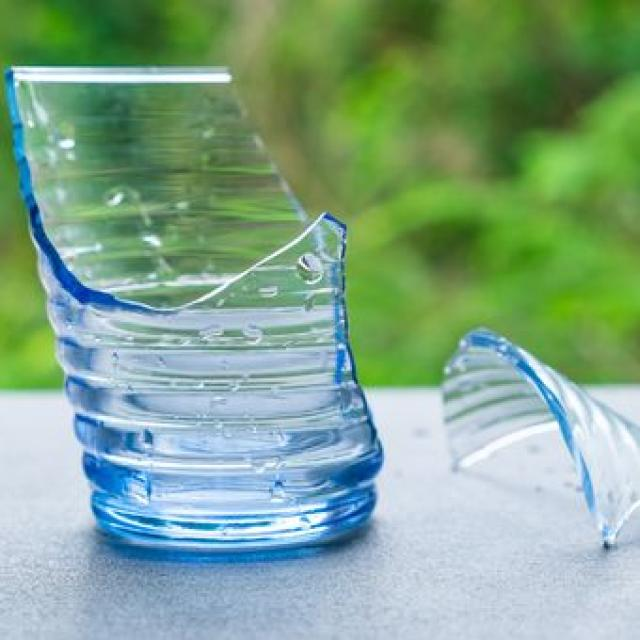PecahanKaca: (11, 54, 390, 616), (440, 323, 637, 552)
